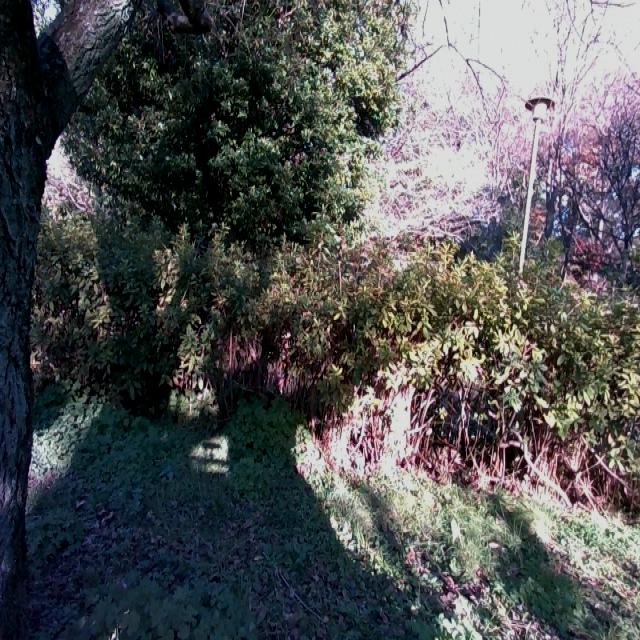artifact: (501, 76, 553, 280)
bush: (0, 208, 640, 505)
tree: (0, 2, 160, 640)
